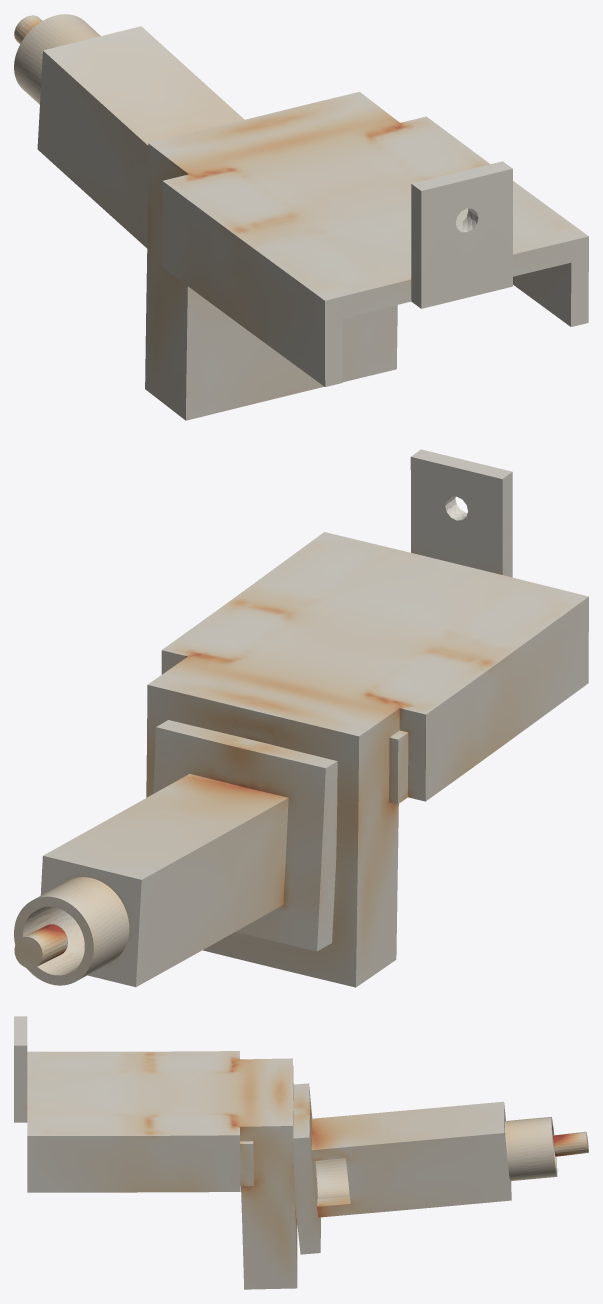
The model's file is z_both_Fy_vm.glb.
3 views of the same model, one above another, from view 1: azimuth 30°, elevation 25°; view 2: azimuth 150°, elevation 25°; view 3: azimuth 270°, elevation 25° (orthographic). The views are drawn at different scales.
Parts seen in each view (by area): view 1: geometry_0; view 2: geometry_0; view 3: geometry_0.
Boxes of the visible parts, x1,y1,x2,y2 form: geometry_0: (14, 14, 588, 420); geometry_0: (14, 449, 588, 987); geometry_0: (14, 1016, 588, 1289).
Bounding box in the file's own units: 150 × 187 × 432.
